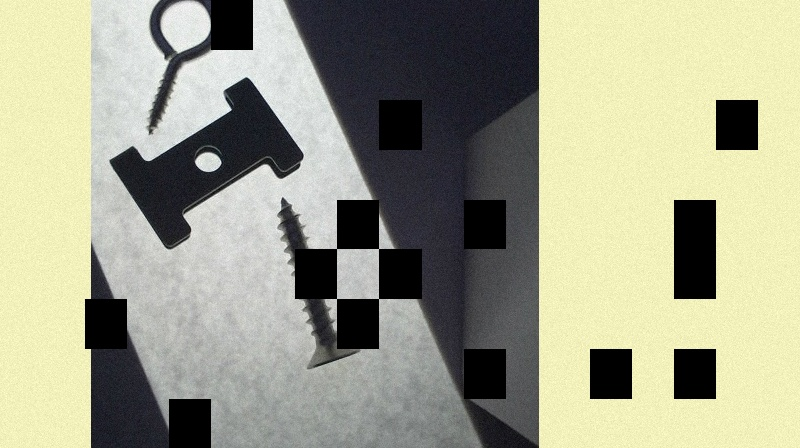O001: (144, 0, 225, 137)
O002: (109, 75, 304, 253)
S001: (277, 195, 361, 369)
